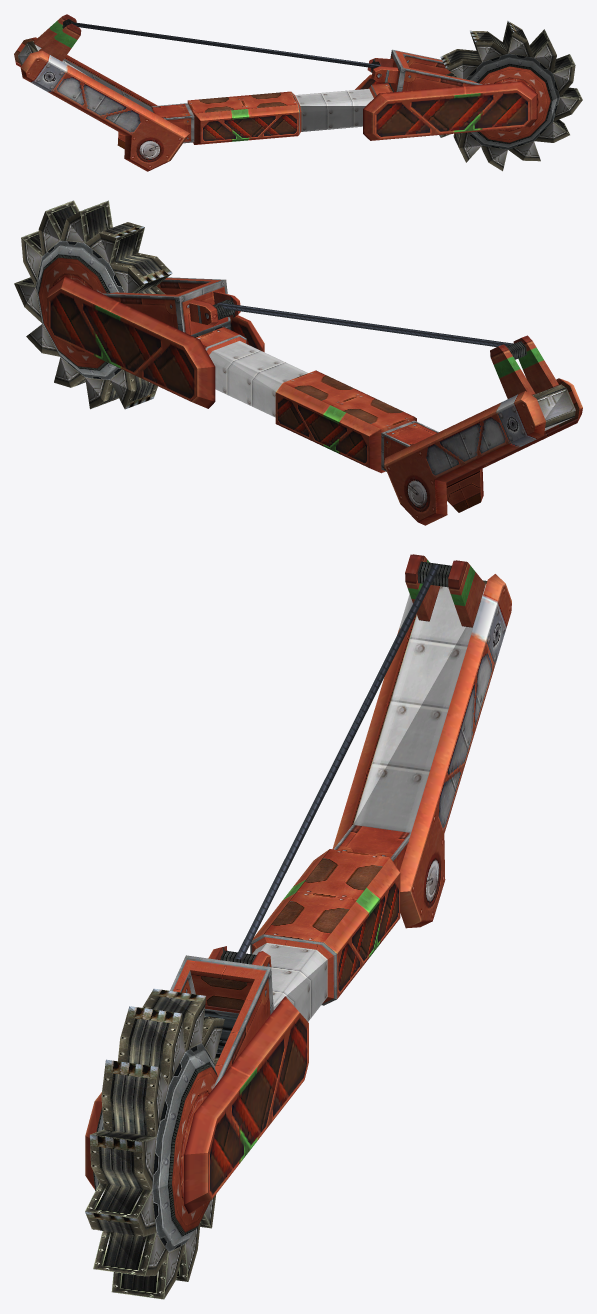
The model's file is stg400_MotExcavatorSL_04.obj.
3 views of the same model, one above another, from view 1: azimuth 30°, elevation 25°; view 2: azimuth 150°, elevation 25°; view 3: azimuth 270°, elevation 25° (orthographic). The views are drawn at different scales.
Parts seen in each view (by area): view 1: polygon1, polygon4, polygon0, polygon2, polygon5; view 2: polygon1, polygon4, polygon0, polygon2, polygon5, polygon3; view 3: polygon1, polygon4, polygon2, polygon0, polygon5, polygon3.
Boxes of the visible parts, x1=… form: polygon1: x1=20, y1=14, x2=537, y2=171; polygon4: x1=439, y1=21, x2=582, y2=171; polygon0: x1=14, y1=37, x2=482, y2=148; polygon2: x1=18, y1=22, x2=380, y2=131; polygon5: x1=479, y1=66, x2=550, y2=142; polygon1: x1=47, y1=276, x2=582, y2=525; polygon4: x1=14, y1=200, x2=172, y2=409; polygon0: x1=102, y1=277, x2=579, y2=512; polygon2: x1=209, y1=302, x2=575, y2=430; polygon5: x1=38, y1=257, x2=106, y2=368; polygon3: x1=191, y1=299, x2=526, y2=359; polygon1: x1=85, y1=554, x2=511, y2=1213; polygon4: x1=85, y1=988, x2=224, y2=1299; polygon2: x1=235, y1=564, x2=487, y2=1021; polygon0: x1=170, y1=613, x2=416, y2=1089; polygon5: x1=172, y1=1066, x2=217, y2=1232; polygon3: x1=204, y1=561, x2=451, y2=1057.
Bounding box in the file's own units: 314 × 114 × 121.
4 materials, 4 textured.
